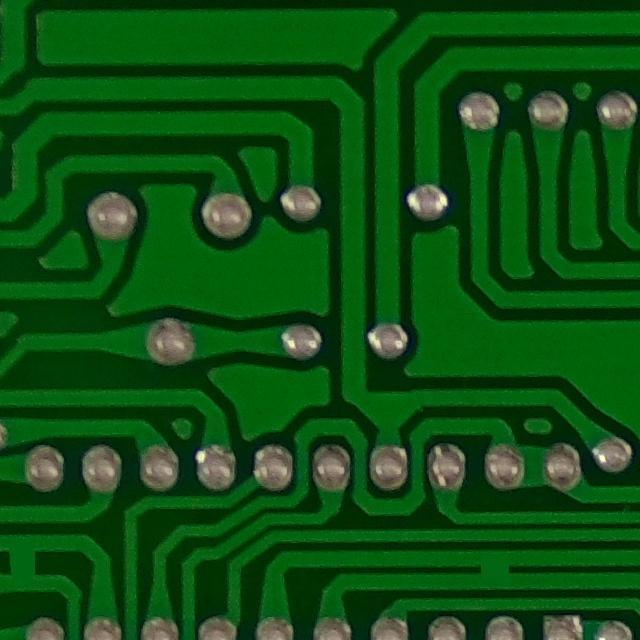short: (0, 524, 57, 597), (460, 545, 524, 592)
